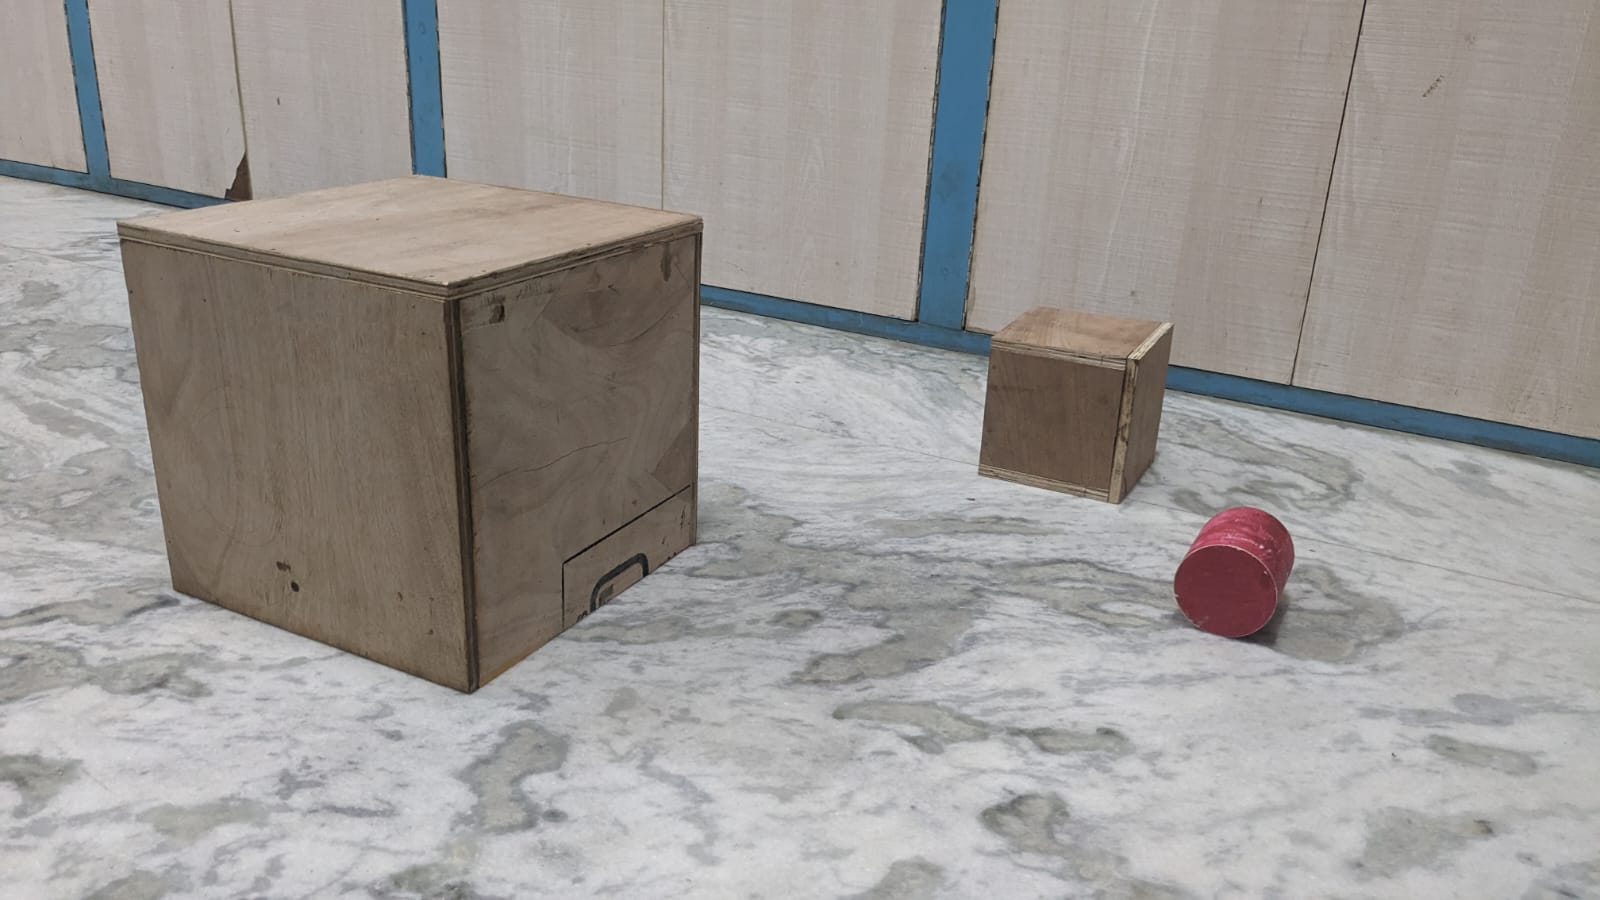150mm obstacle: (971, 297, 1184, 516)
300mm obstacle: (113, 160, 726, 718)
testtube: (1167, 491, 1318, 653)
